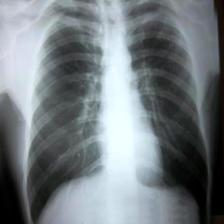tuberculosis: (15, 0, 212, 224)
